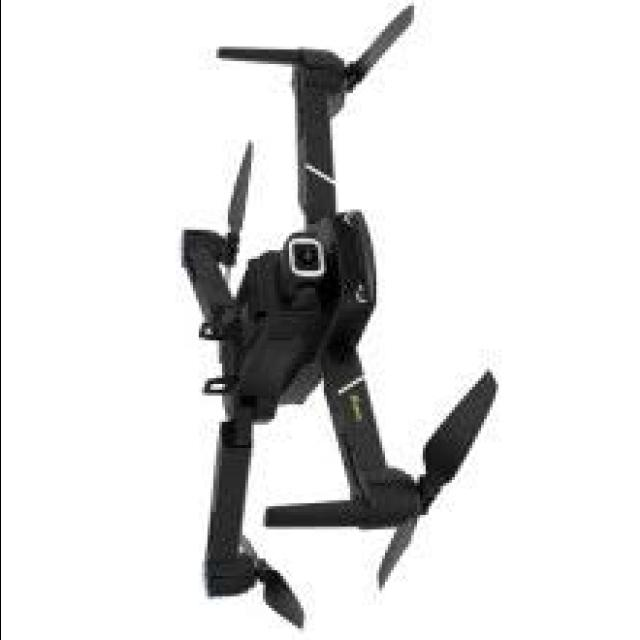drone: (163, 0, 488, 640)
